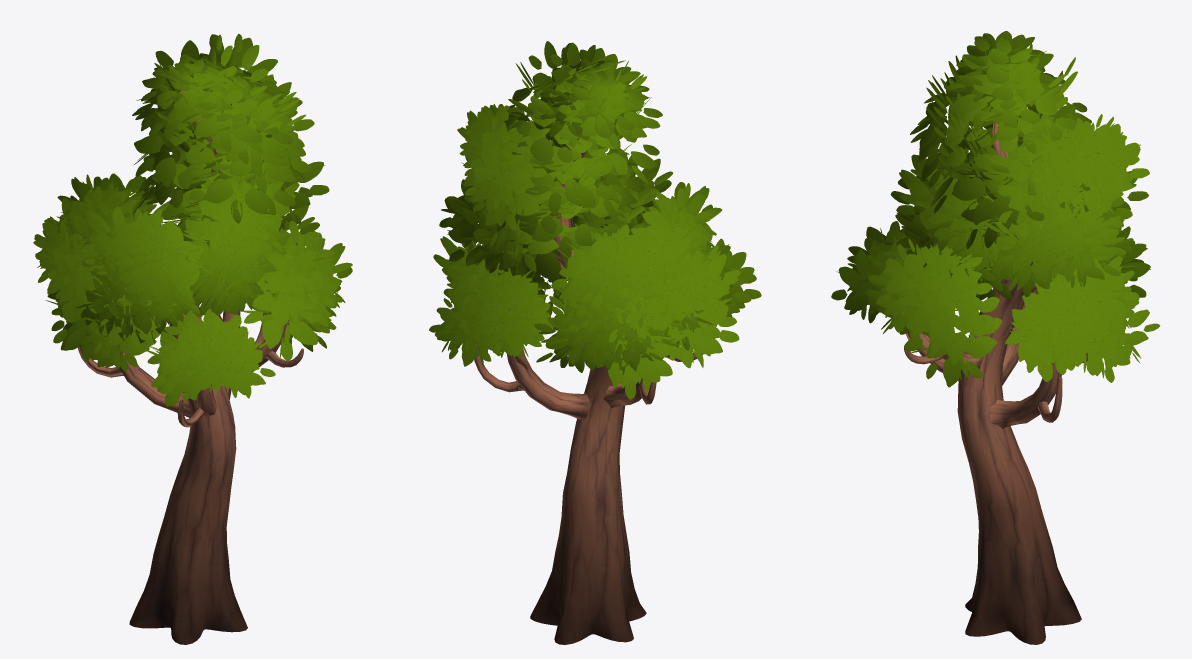
The model's file is CommonTree_2.gltf.
3 renders of one model, left to right at view 1: azimuth 30°, elevation 25°; view 2: azimuth 150°, elevation 25°; view 3: azimuth 270°, elevation 25°, orthographic. The views are drawn at different scales.
Visible parts, largest first — view 1: CommonTree_2; view 2: CommonTree_2; view 3: CommonTree_2.
Boxes of the visible parts, bbox=[...] form: CommonTree_2: bbox=[33, 34, 352, 644]; CommonTree_2: bbox=[429, 41, 761, 644]; CommonTree_2: bbox=[831, 31, 1159, 644].
Bounding box in the file's own units: 4.46 × 7.64 × 4.28.
2 materials, 2 textured.
